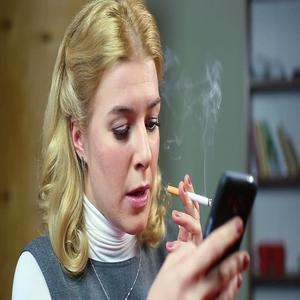cigarette: (165, 180, 213, 207)
